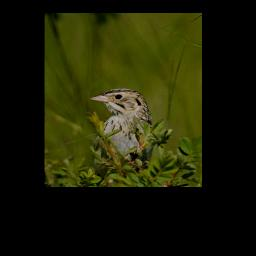Sparrow: (89, 88, 161, 180)
